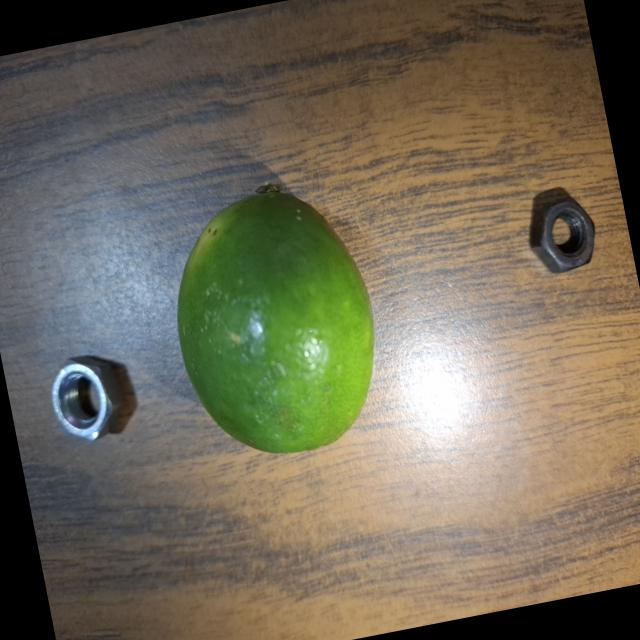limon: (146, 160, 398, 475)
milimetrico: (516, 187, 602, 280)
tuerca: (38, 346, 130, 452)
